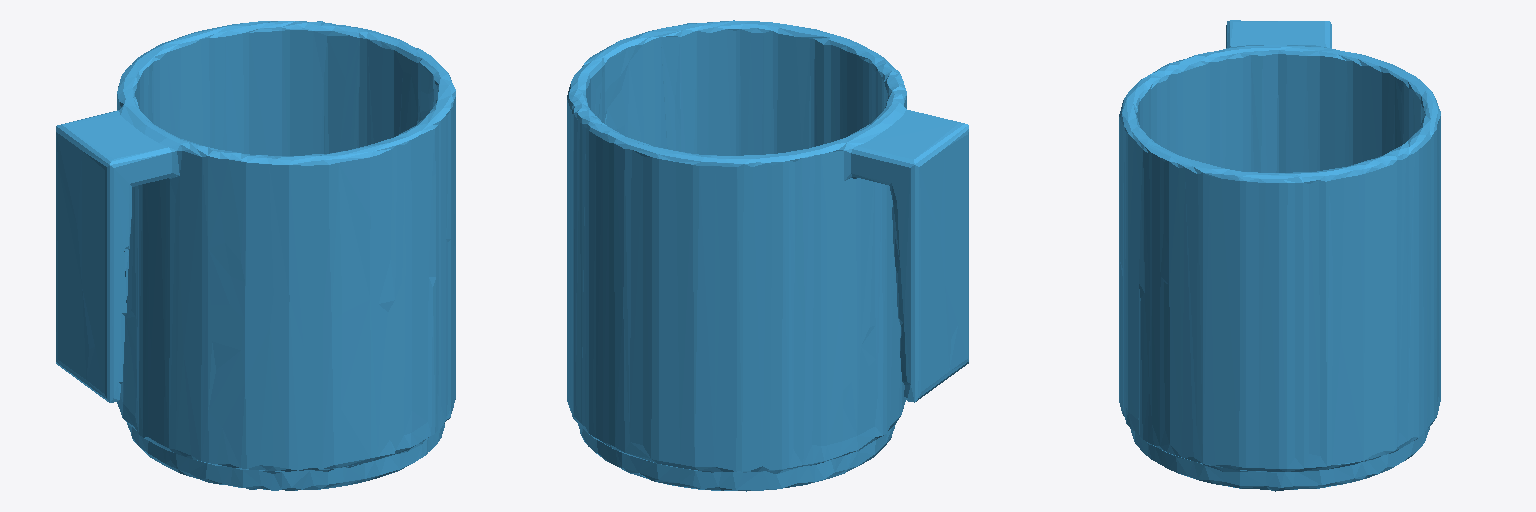
URDF robot description (Mug_159e56c18906830278d8f8c02c47cde0_M):
<?xml version="1.0"?>
<robot name="Mug_159e56c18906830278d8f8c02c47cde0_M">
  <link name="base"/>
  <link name="link_0">
  <visual>
    <origin xyz="0.0 0.0 0.0"/>
    <geometry>
      <mesh filename="Mug_159e56c18906830278d8f8c02c47cde0_M.obj" scale="1.0 1.0 1.0"/>
    </geometry>
  </visual>
  <collision>
    <origin xyz="0.0 0.0 0.0"/>
    <geometry>
      <mesh filename="collision.obj" scale="1.0 1.0 1.0"/>
    </geometry>
  </collision>
  </link>
  <joint name="joint_0" type="fixed">
    <origin rpy="0 0 0" xyz="0 0 0"/>
    <child link="link_0"/>
    <parent link="base"/>
  </joint>
</robot>

--- What the picture shows (computed from the rendered views, not written in the file) ---
The picture shows the robot from 3 angles, left to right: view 1: azimuth 30°, elevation 25°; view 2: azimuth 150°, elevation 25°; view 3: azimuth 270°, elevation 25°; orthographic projection.
Model Mug_159e56c18906830278d8f8c02c47cde0_M with 2 links and 1 joints (1 fixed), rooted at base, posed every joint at zero.
Visible links, largest first — view 1: link_0; view 2: link_0; view 3: link_0.
Boxes of the visible links, x1,y1,x2,y2 form: link_0: (56,21,455,490); link_0: (567,20,968,491); link_0: (1119,20,1440,491).
Bounding box of the posed robot: 0.1308 × 0.1088 × 0.1192 m (x, y, z).
1 mesh visuals loaded from 1 distinct referenced files (1 OBJ).